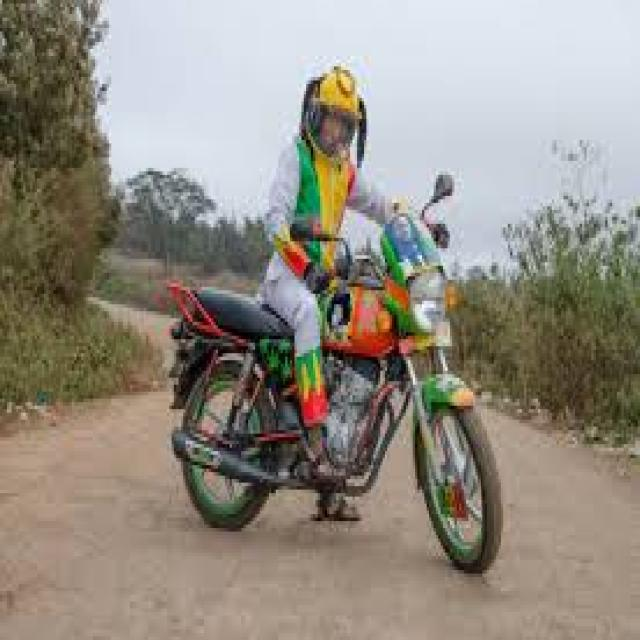bodaboda: (136, 141, 522, 608)
